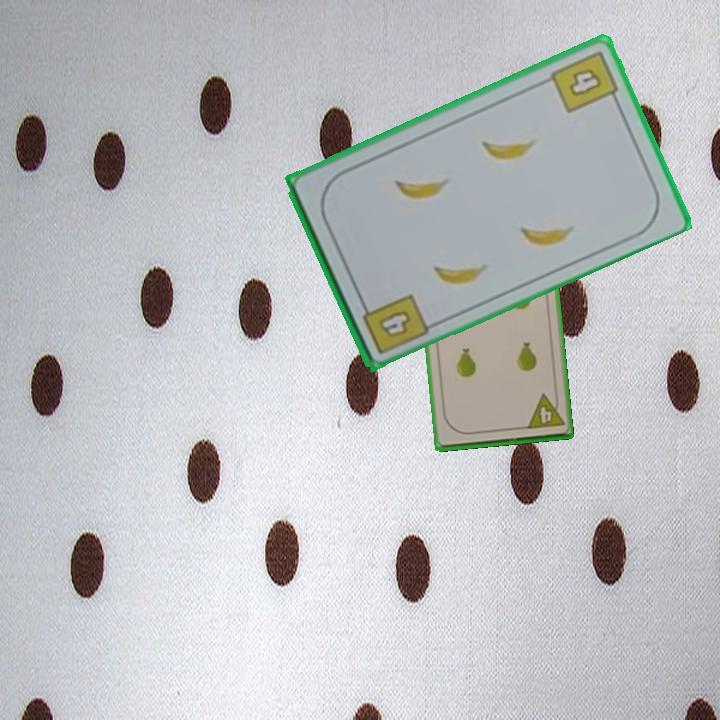4b: (547, 46, 623, 116), (357, 289, 432, 357)
4p: (523, 390, 567, 432)
